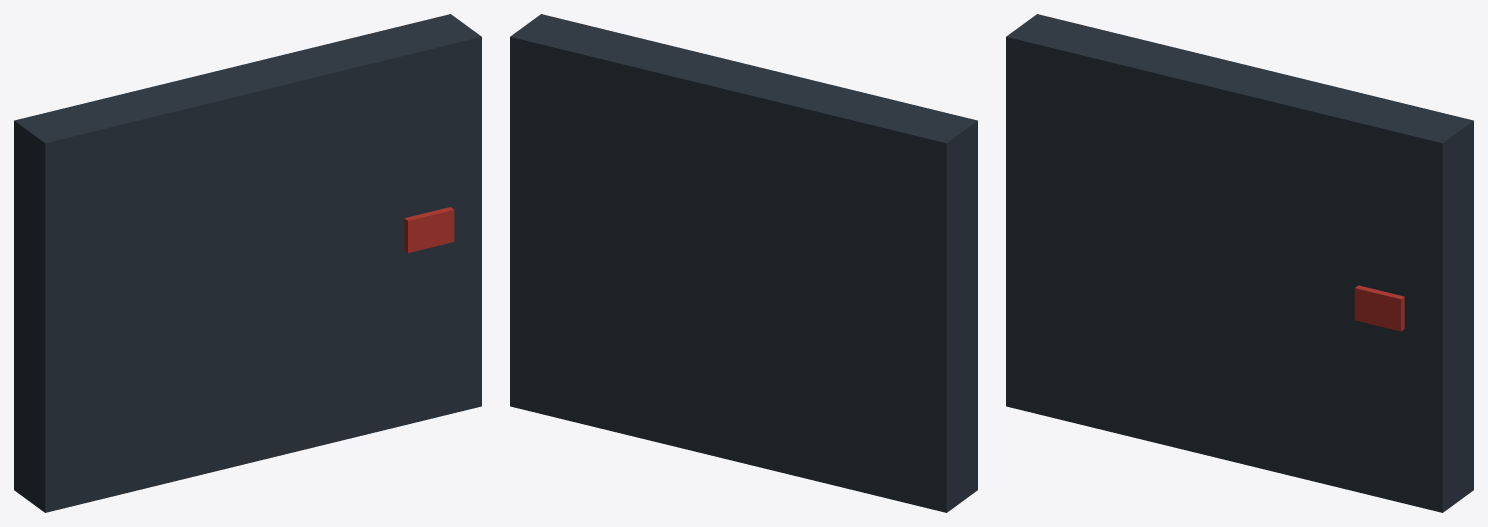
File: door.subroom_locked_solid.glb
3 renders of one model, left to right at view 1: azimuth 30°, elevation 25°; view 2: azimuth 150°, elevation 25°; view 3: azimuth 330°, elevation 25°, orthographic.
Visible parts, largest first — view 1: locked_panel, room_lock_light; view 2: locked_panel; view 3: locked_panel, room_lock_light.
Part boxes in pixels (x1,y1,x2,y2): locked_panel: [14, 14, 481, 512]; room_lock_light: [404, 207, 454, 252]; locked_panel: [510, 14, 977, 512]; locked_panel: [1006, 14, 1473, 512]; room_lock_light: [1354, 285, 1404, 331].
Bounding box in the file's own units: 3.4 × 2.75 × 0.515.
